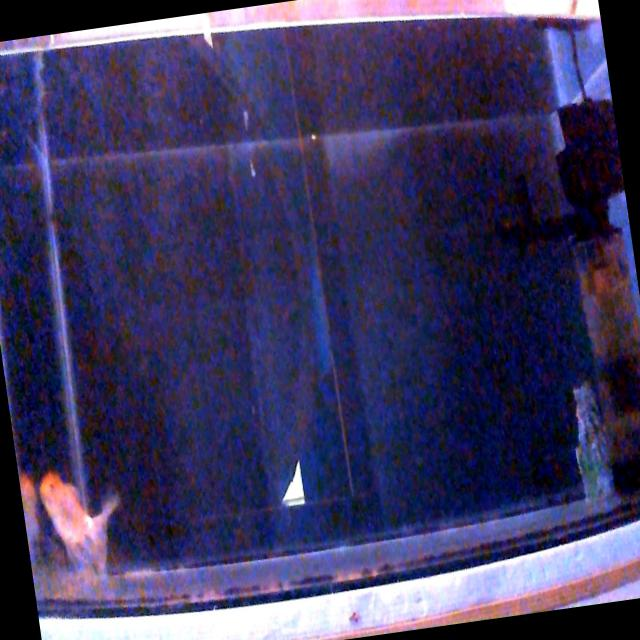fish: (36, 461, 132, 586), (18, 470, 48, 564)
